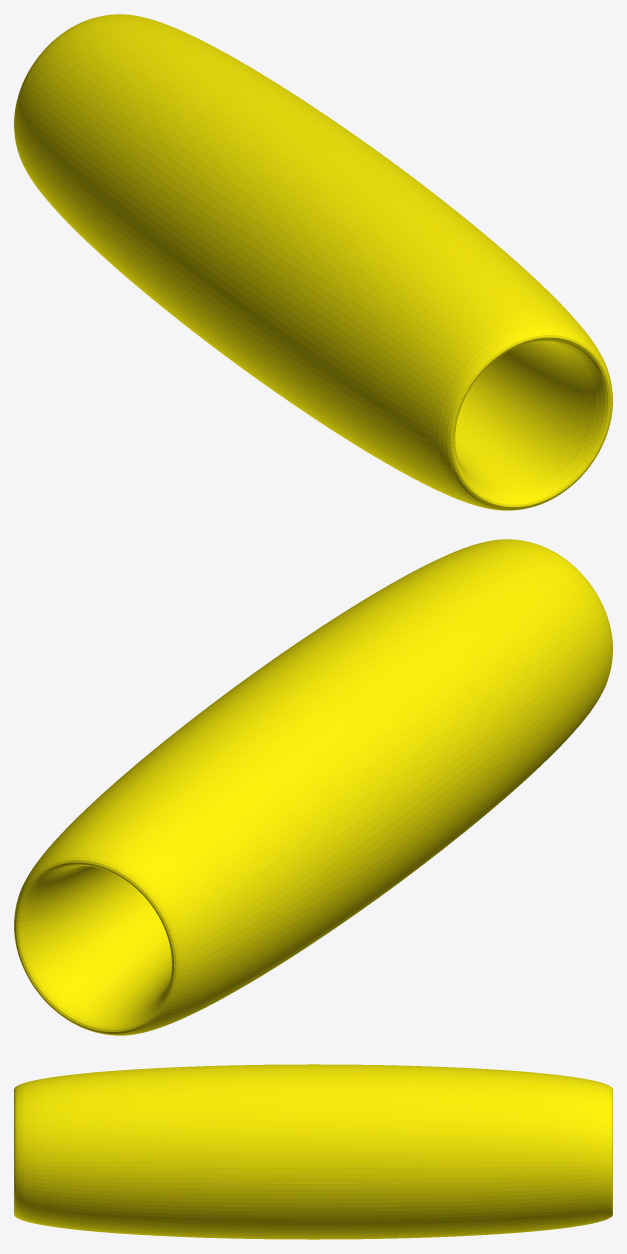
File: Nouvelle scène.obj
3 views of the same model, one above another, from view 1: azimuth 30°, elevation 25°; view 2: azimuth 150°, elevation 25°; view 3: azimuth 270°, elevation 25° (orthographic). The views are drawn at different scales.
Parts seen in each view (by area): view 1: Object.1; view 2: Object.1; view 3: Object.1.
Boxes of the visible parts, left/top/right/bottom form: Object.1: left=14, top=14, right=612, bottom=510; Object.1: left=14, top=539, right=612, bottom=1035; Object.1: left=14, top=1064, right=612, bottom=1239.
Bounding box in the file's own units: 362 × 362 × 1239.
